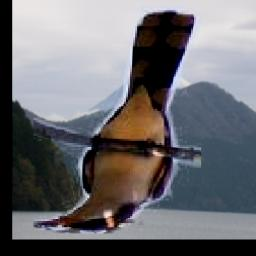Cuckoo: (35, 7, 202, 234)
